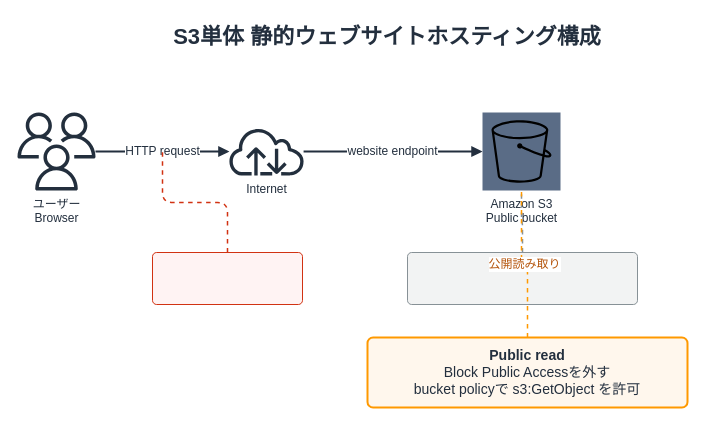
Some shapes in this 705 by 425 pixel diagram are drawn without their labels. Each missing label, with the centre of its shape:
"HTTPS非対応 HTTPで公開" goes at pixel 227 278.
"S3 website endpoint http://<bucket>.s3-website-..." goes at pixel 522 278.
